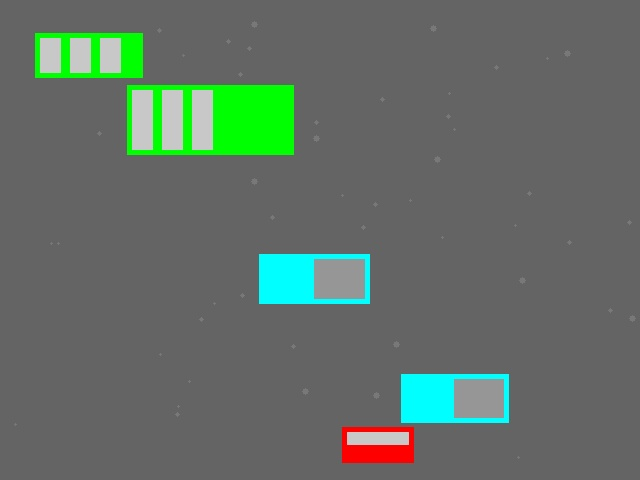bus: (127, 85, 293, 154), (35, 33, 142, 77)
car: (342, 427, 413, 462)
truck: (259, 254, 369, 303), (401, 374, 508, 422)
